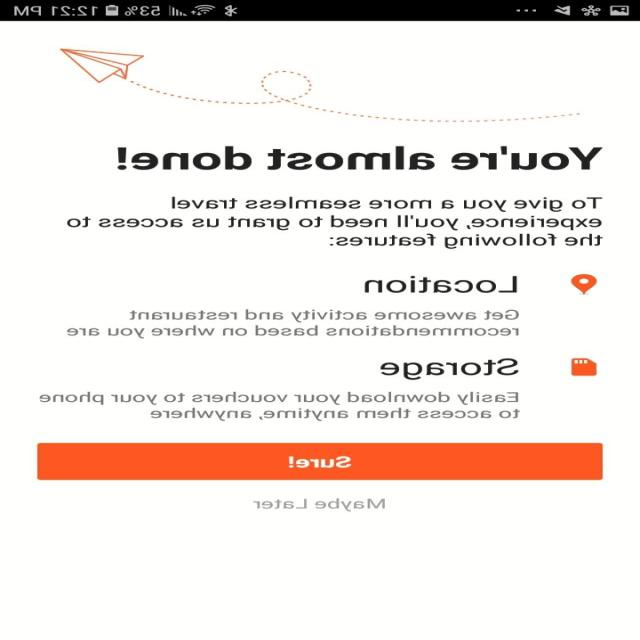Icon: (570, 274, 598, 294), (572, 357, 598, 376)
Image: (60, 49, 580, 122)
Text: (66, 196, 604, 249), (39, 391, 521, 421), (67, 309, 520, 338), (118, 145, 604, 171), (380, 357, 520, 380), (364, 275, 518, 292), (253, 497, 386, 511)
TextButton: (38, 442, 604, 480)
